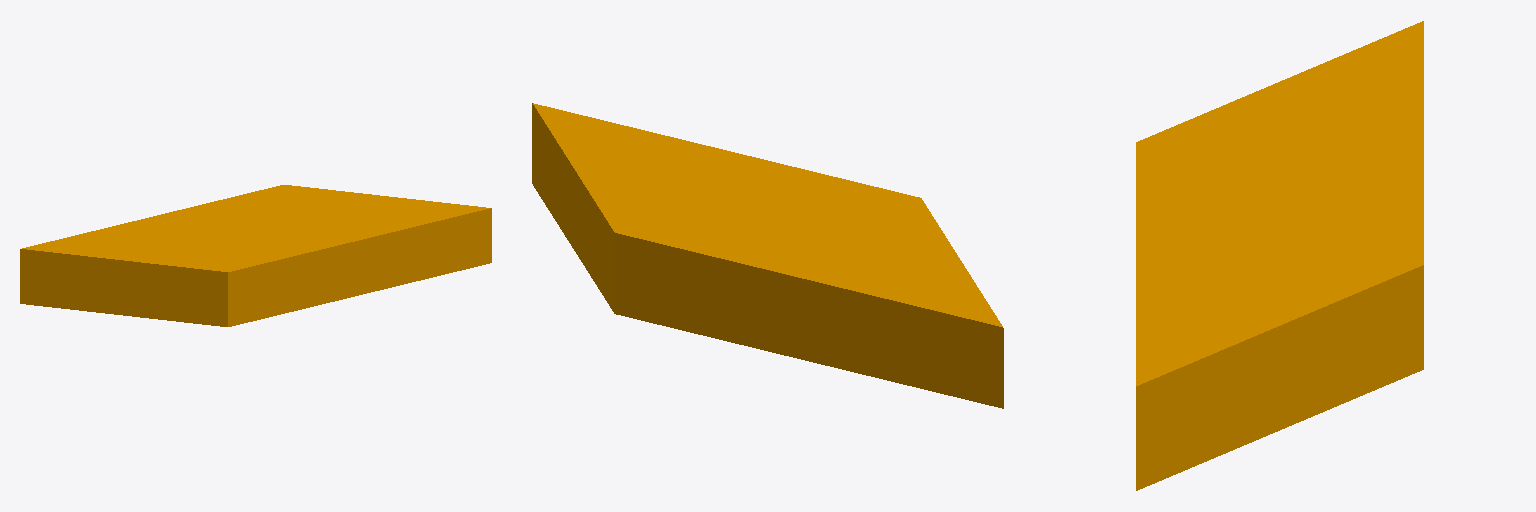
robot.urdf — cube:
<robot name="cube">
    <link name="cube">
        <contact>
            <lateral_friction value="0.1" />
        </contact>
        <inertial>
            <origin xyz="0 0 -0.1" rpy="0 0 0" />
            <mass value="0.2" />
            <inertia ixx="0" ixy="0" ixz="0" iyy="0" iyz="0" izz="0" />
        </inertial>
        <visual>
            <origin xyz="0 0 0" rpy="0 0 0" />
            <geometry>
                <mesh filename="4.stl" scale="0.001 0.001 0.001"/>
            </geometry>
        </visual>
        <collision>
            <origin xyz="0 0 0" rpy="0 0 0" />
            <geometry>
               <mesh filename="4.stl" scale="0.001 0.001 0.001"/>
            </geometry>
        </collision>
    </link>
</robot>

--- Render facts (derived) ---
3 views of the same robot in one strip: view 1: azimuth 30°, elevation 25°; view 2: azimuth 150°, elevation 25°; view 3: azimuth 270°, elevation 25° (orthographic).
Robot: cube — 1 links, 0 joints (none); root link cube; default pose: every joint at zero.
Links seen in each view (by area): view 1: cube; view 2: cube; view 3: cube.
Link boxes in pixels (bbox=[...]): cube: bbox=[20, 185, 491, 326]; cube: bbox=[532, 103, 1003, 408]; cube: bbox=[1136, 21, 1423, 490].
Bounding box of the posed robot: 0.075 × 0.025 × 0.01 m (x, y, z).
1 mesh visuals loaded from 1 distinct referenced files (1 binary STL).